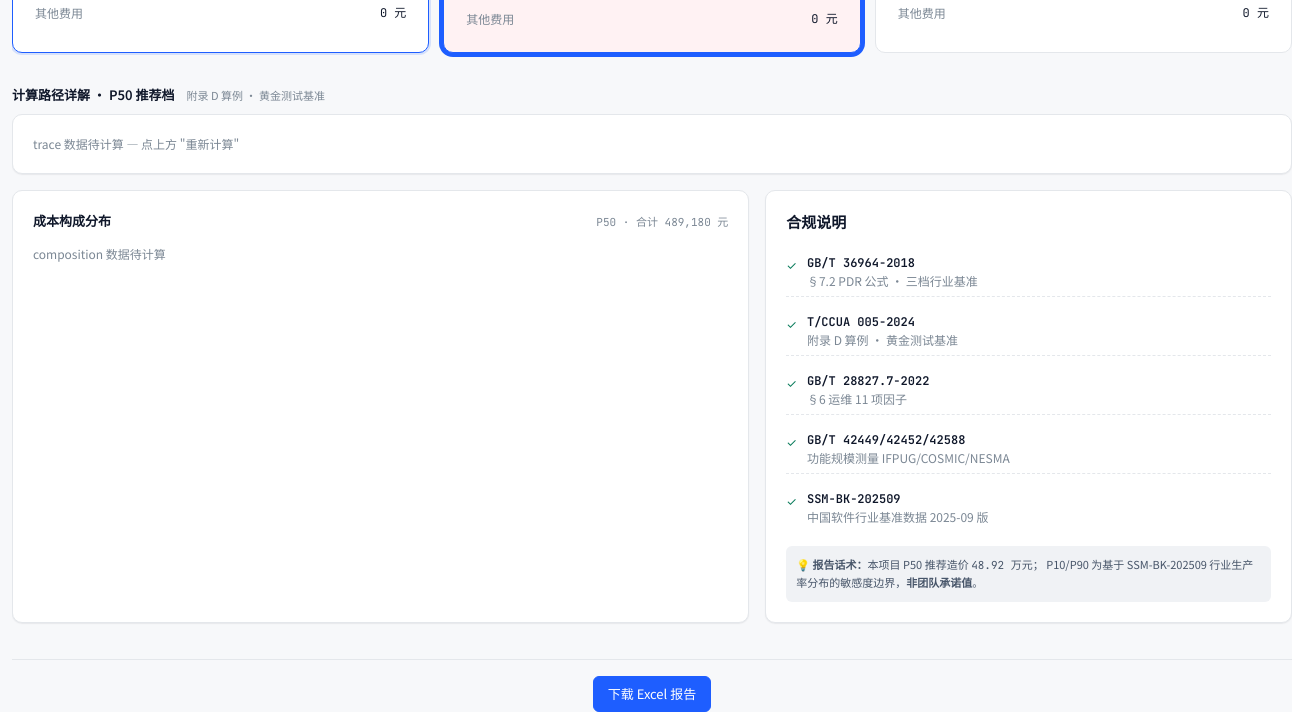
ResultView › Excel 下载失败时显示 ErrorBanner（role=alert）
The image size is (1292, 712).
(page scrolled)
Click the button "下载 Excel 报告" at (652, 694), box [593,676,711,711]
(page scrolled)
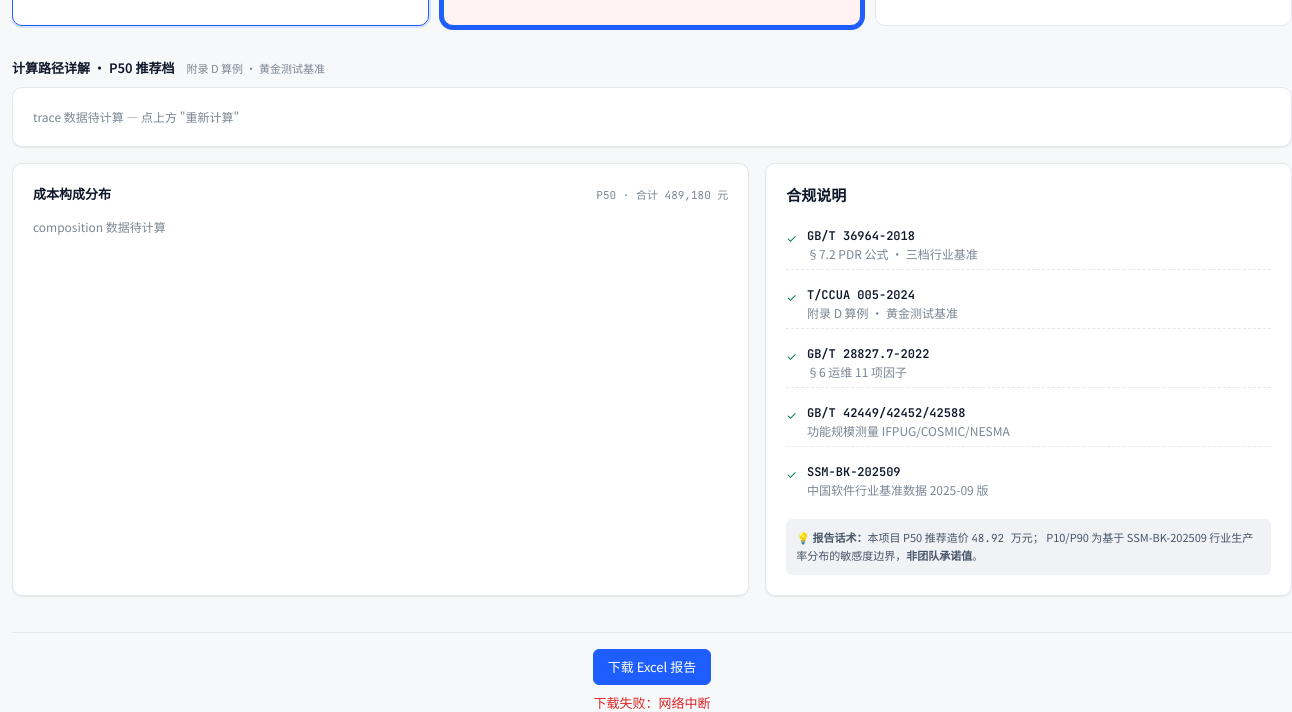
expect the text "网络中断" is shown: met, box [594,693,710,711]
